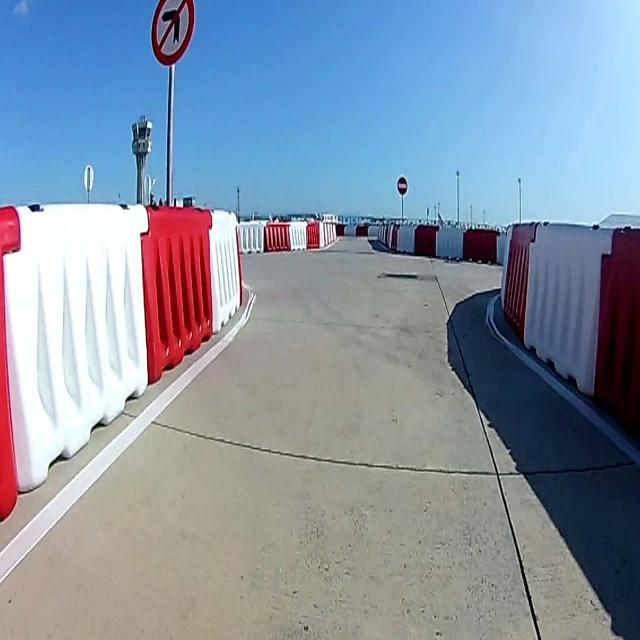girisyok: (398, 178, 408, 195)
soladonulmez: (153, 1, 195, 64)
